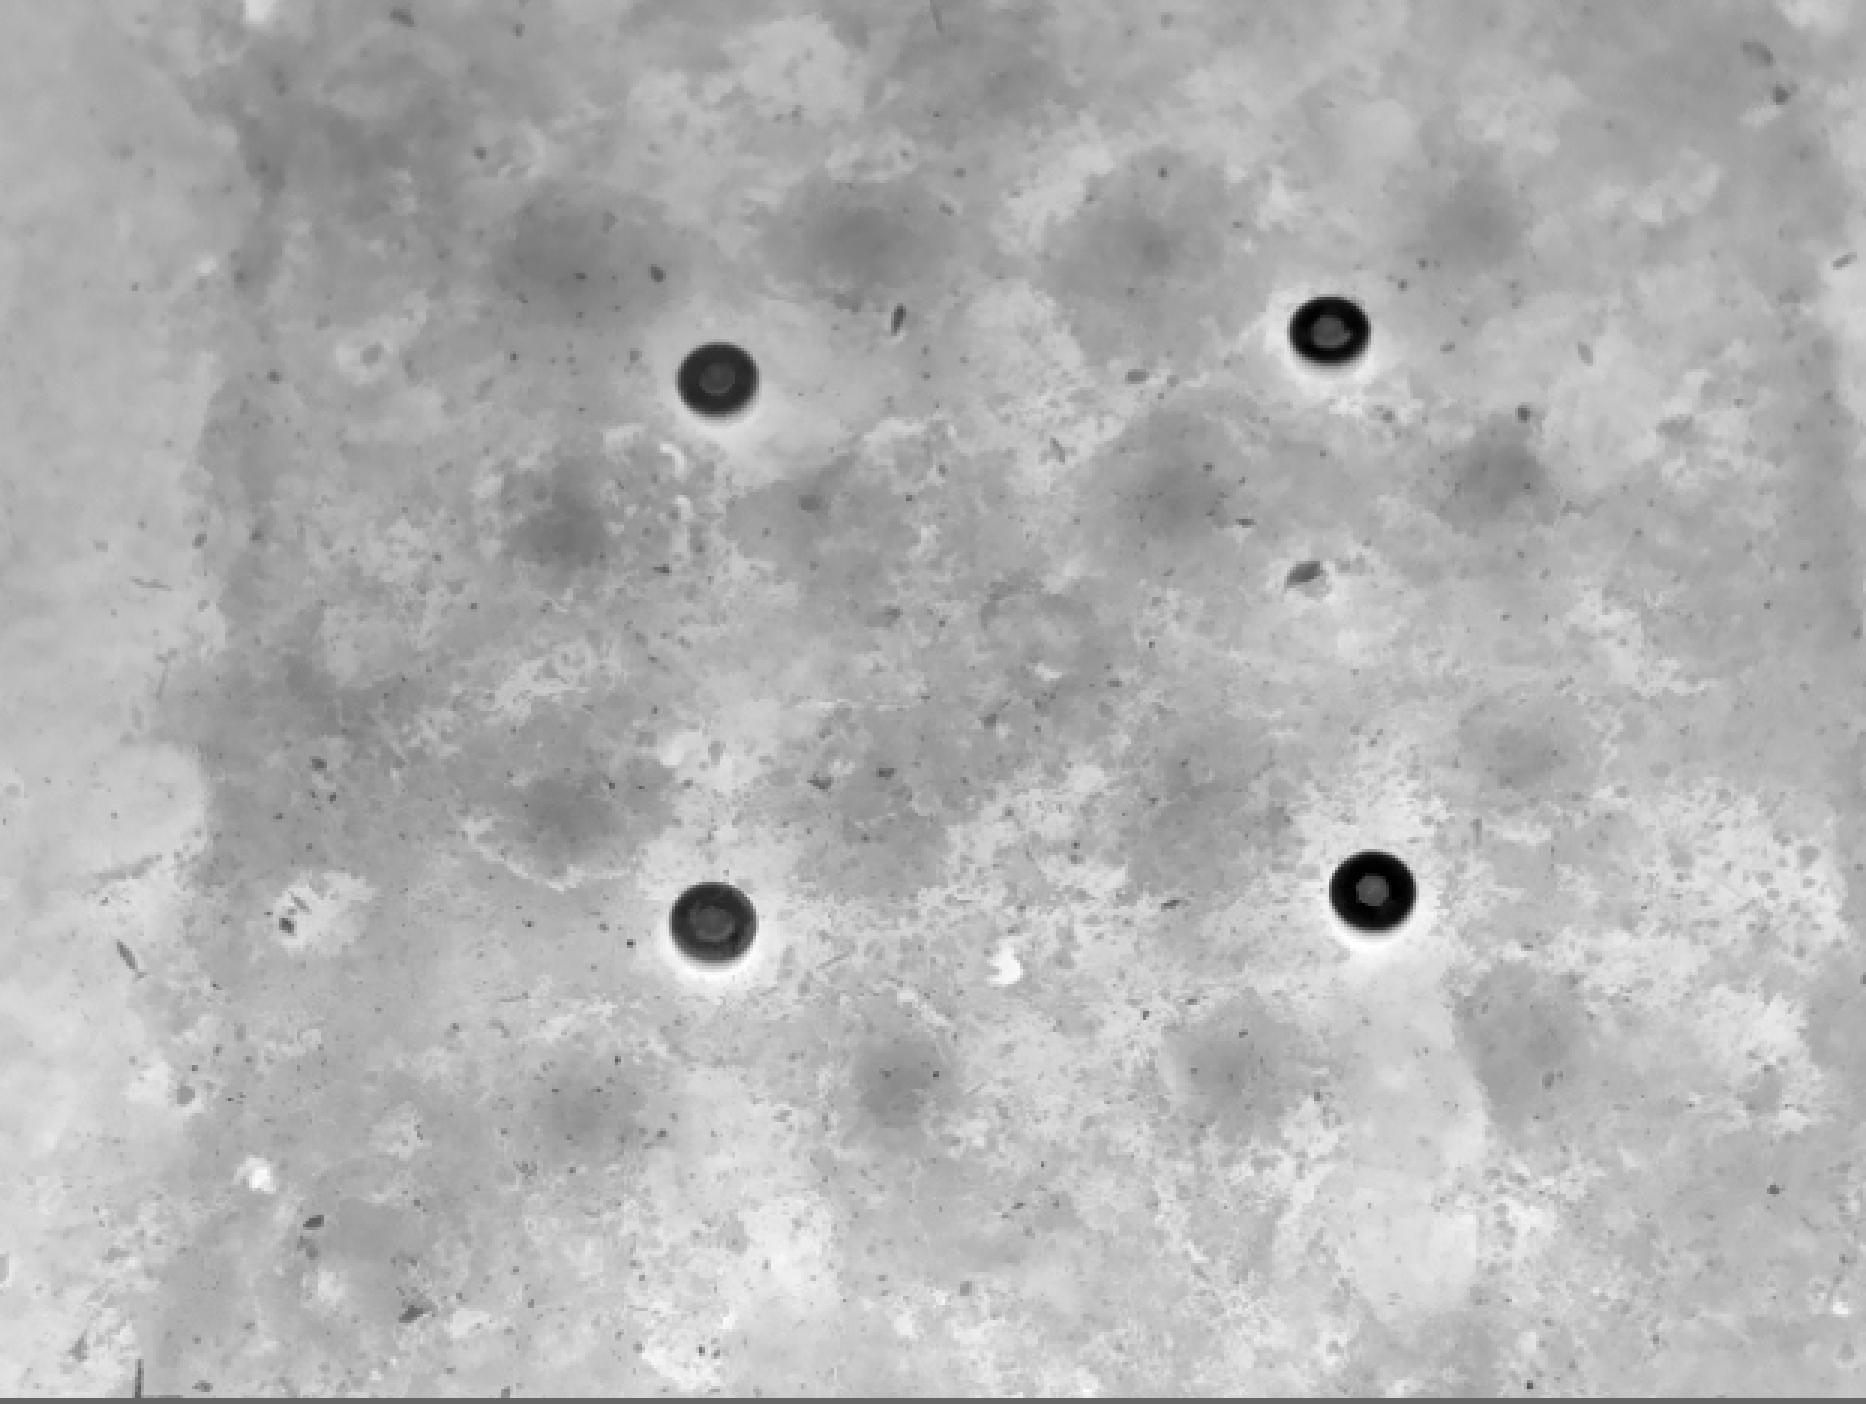mines-gjV8: (1314, 845, 1437, 944), (676, 338, 769, 428), (1288, 292, 1384, 379), (668, 875, 760, 962)
